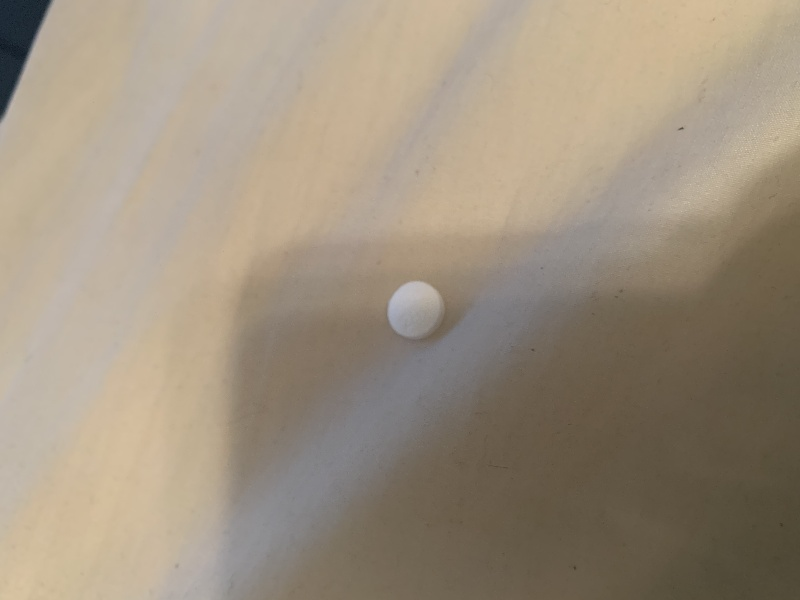Aspirin: (380, 274, 456, 353)
